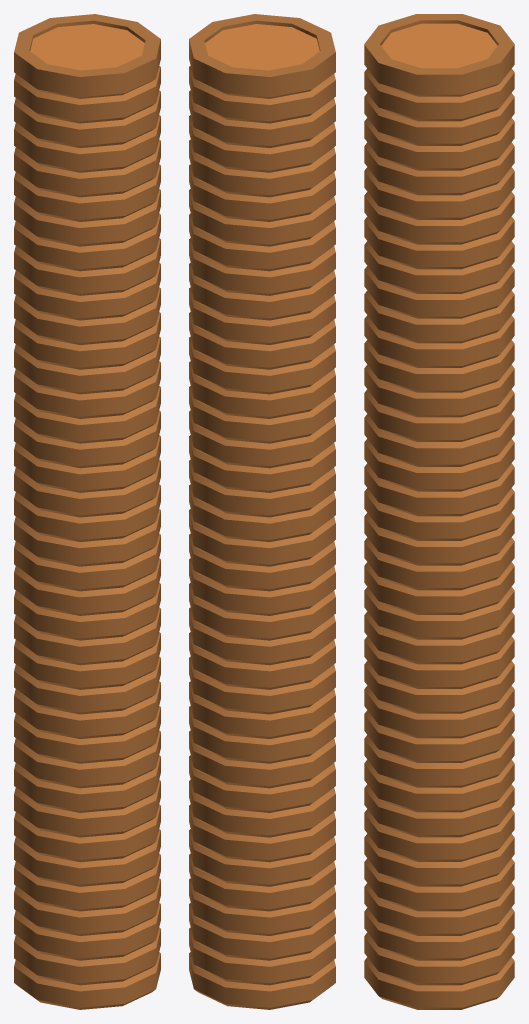
Rendered from Coin_Tower_13.fbx.
The picture shows the model from 3 angles, left to right: view 1: azimuth 30°, elevation 25°; view 2: azimuth 150°, elevation 25°; view 3: azimuth 270°, elevation 25°; orthographic projection.
Parts seen in each view (by area): view 1: Coin_Tower_13; view 2: Coin_Tower_13; view 3: Coin_Tower_13.
Part boxes in pixels (left/top/right/bottom): Coin_Tower_13: left=14, top=14, right=160, bottom=1009; Coin_Tower_13: left=189, top=14, right=335, bottom=1009; Coin_Tower_13: left=364, top=14, right=514, bottom=1009.
Bounding box in the file's own units: 0.0413 × 0.2985 × 0.0435.
